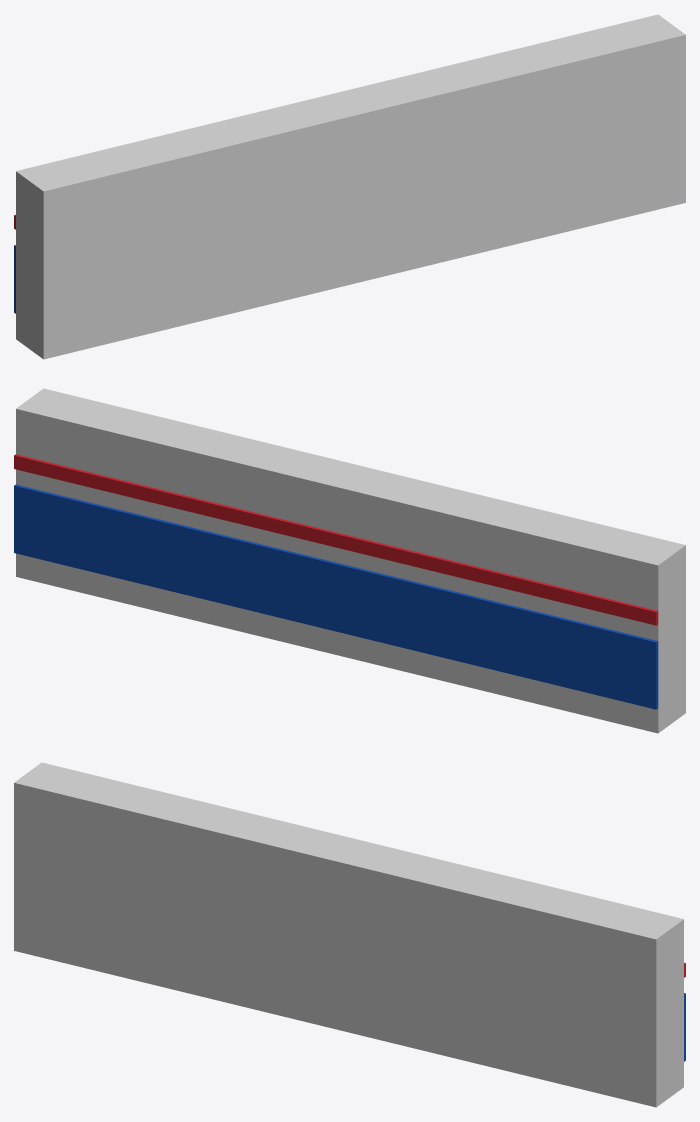
The model's file is Fascia.obj.
3 renders of one model, top to bottom at view 1: azimuth 30°, elevation 25°; view 2: azimuth 150°, elevation 25°; view 3: azimuth 330°, elevation 25°, orthographic.
Visible parts, largest first — view 1: Fascia; view 2: Fascia; view 3: Fascia.
Boxes of the visible parts, x1=… form: Fascia: x1=14, y1=14, x2=685, y2=359; Fascia: x1=14, y1=388, x2=685, y2=733; Fascia: x1=14, y1=762, x2=685, y2=1107.
Size of the model in its own units: 4 by 1 by 0.32.
